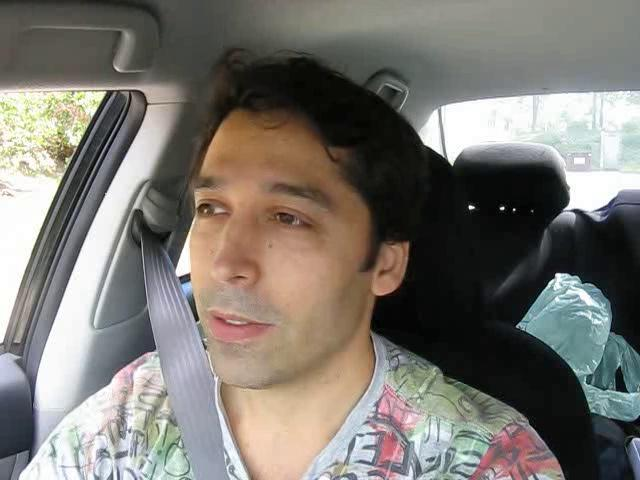close_eyeL: (186, 190, 238, 229)
close_eyeR: (256, 197, 334, 240)
no_yawn: (185, 301, 295, 354)
